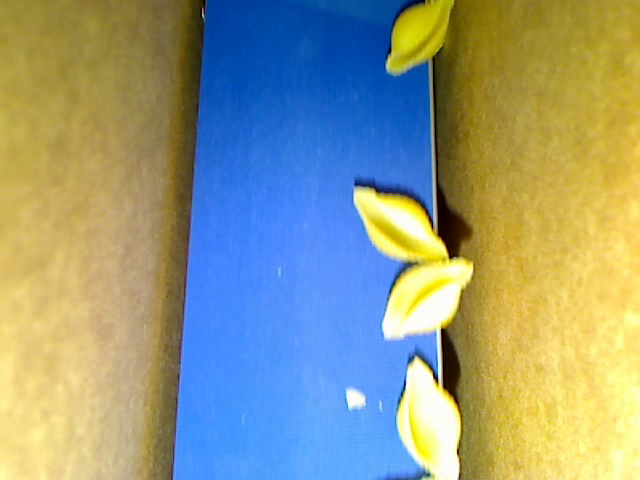shell: (392, 353, 462, 479), (379, 254, 474, 339), (349, 184, 450, 260), (383, 1, 453, 83)
